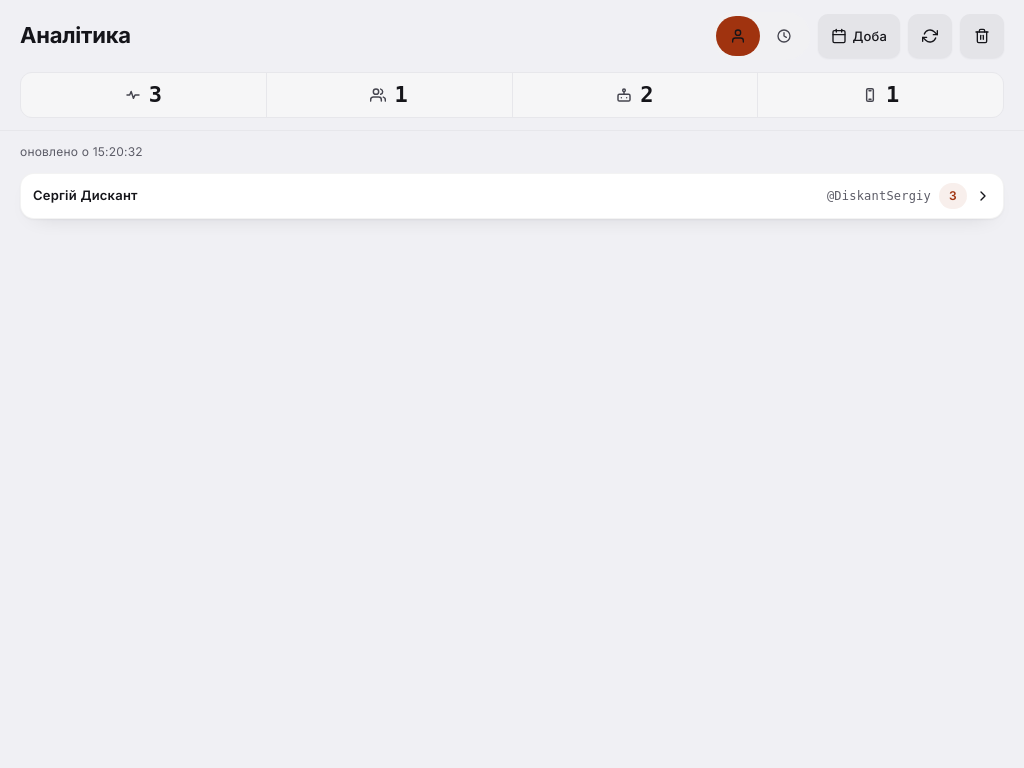
Test case: екран «Аналітика» › період вибирають у модалці, а кнопка називає обране
The image size is (1024, 768).
Expected: the text "Сергій Дискант" is shown, [33,187,138,203]
Click the button "Доба". click: click(859, 36)
box: [818,14,900,58]
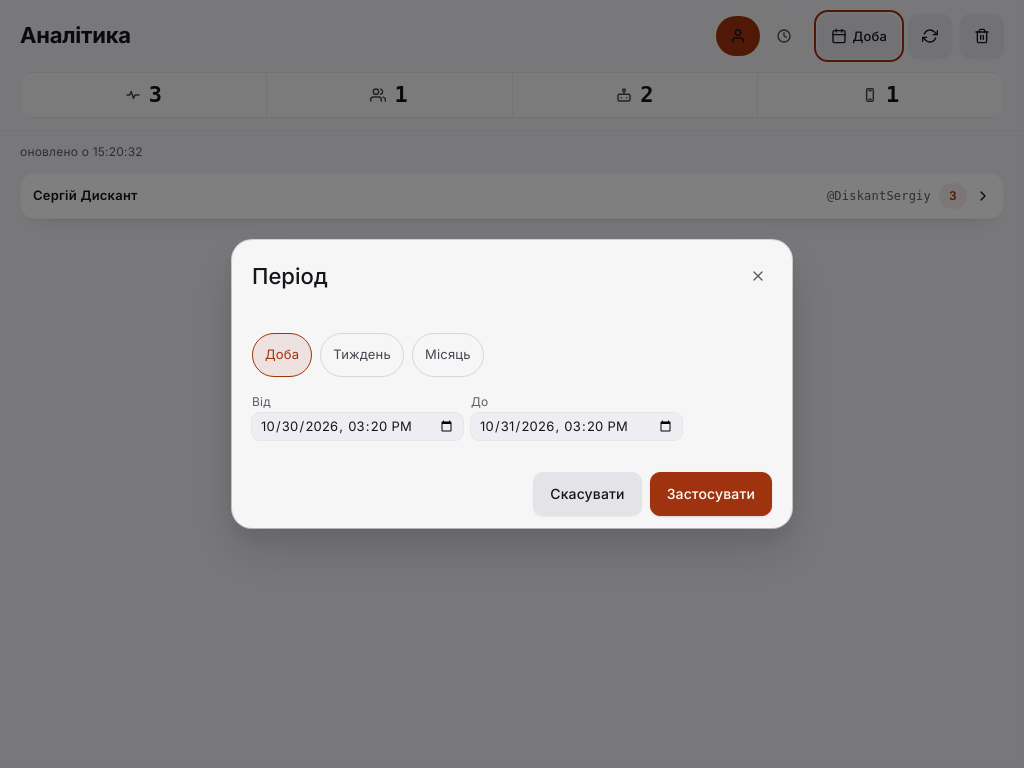
Click the button "Тиждень". click: click(362, 355)
box: [320,333,404,377]
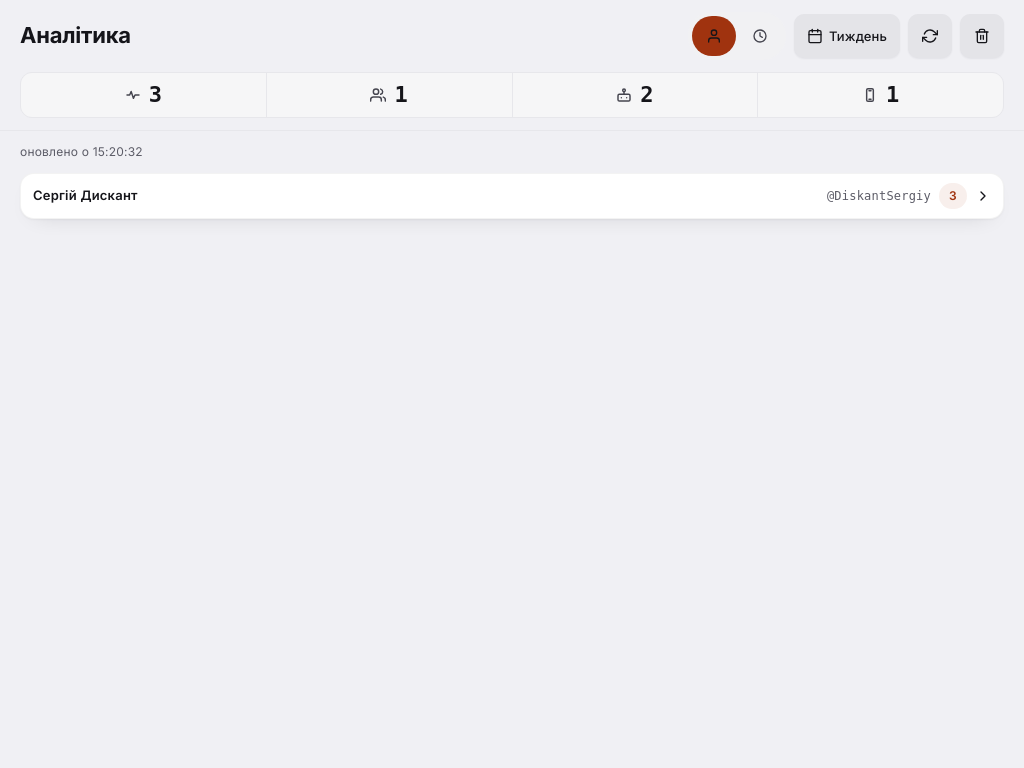
Now the heading "Період" is gone
Now the button "Тиждень" is shown, box [794,14,900,58]
